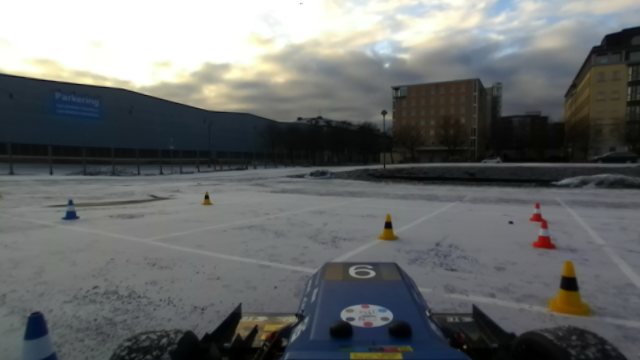blue: (60, 198, 81, 221)
orange: (532, 219, 555, 250), (527, 201, 545, 222)
yellow: (541, 260, 594, 319), (377, 215, 397, 241), (200, 190, 213, 207)
